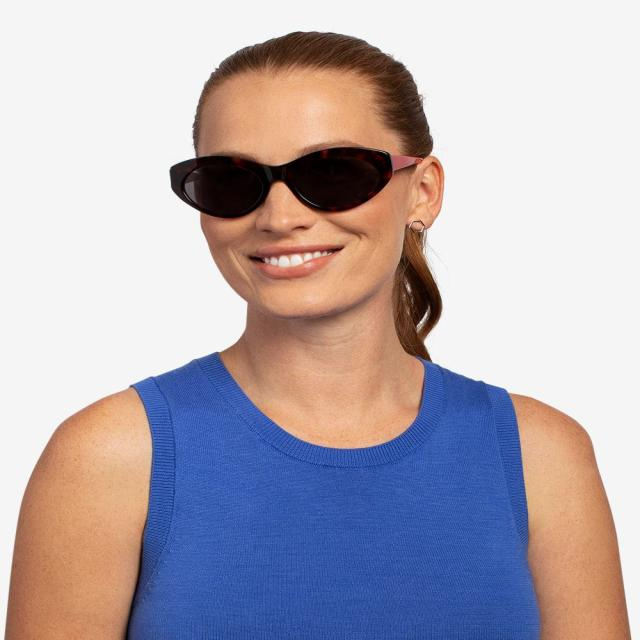2_gafas: (168, 145, 424, 219)
